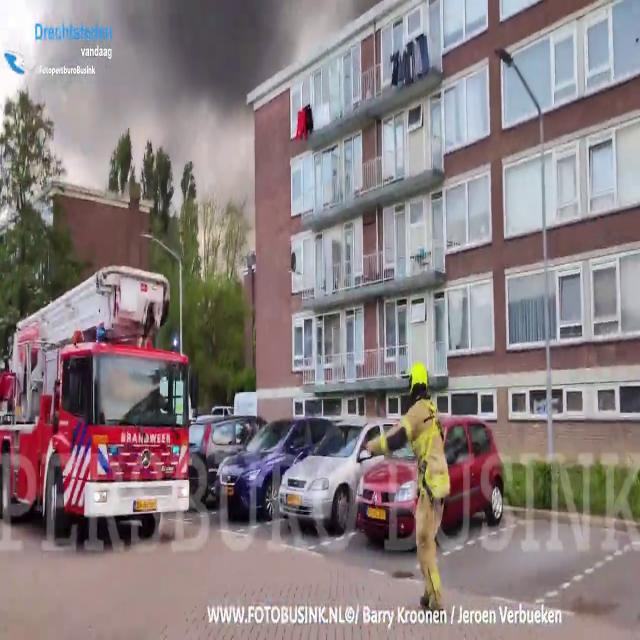Smoke: (144, 0, 300, 142)
